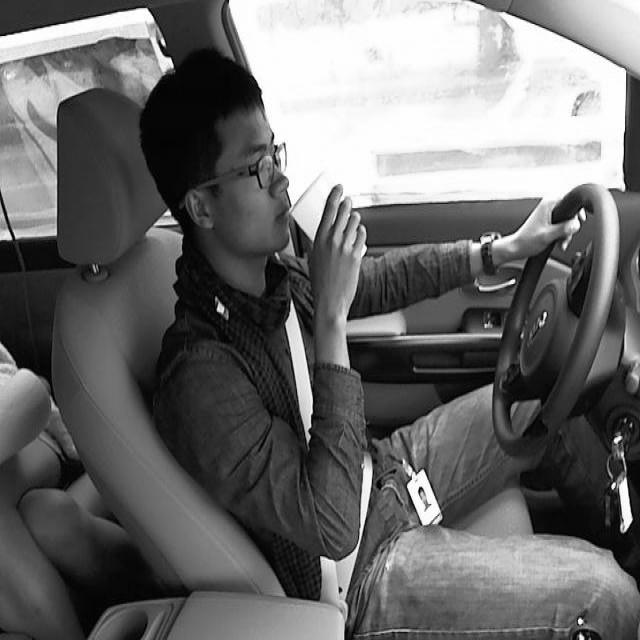drinking: (286, 168, 366, 273)
